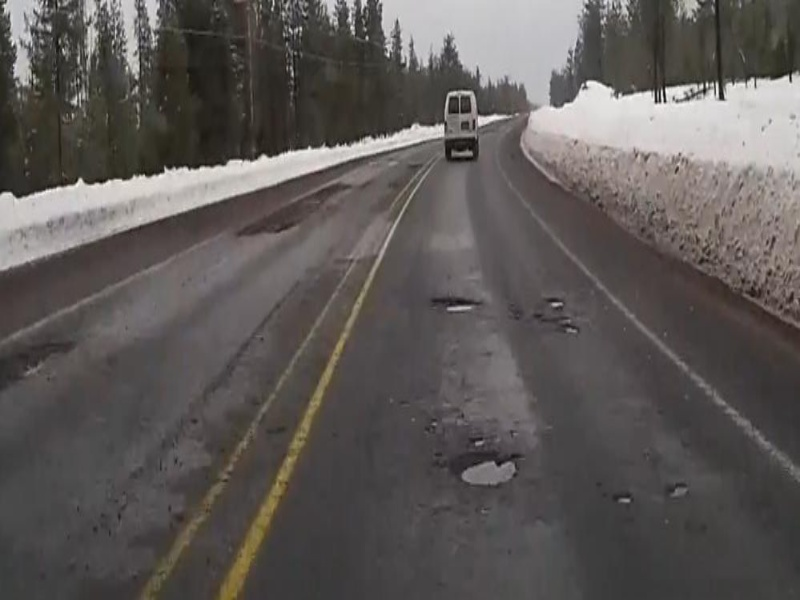pothole: (457, 454, 523, 490), (427, 292, 484, 318)
